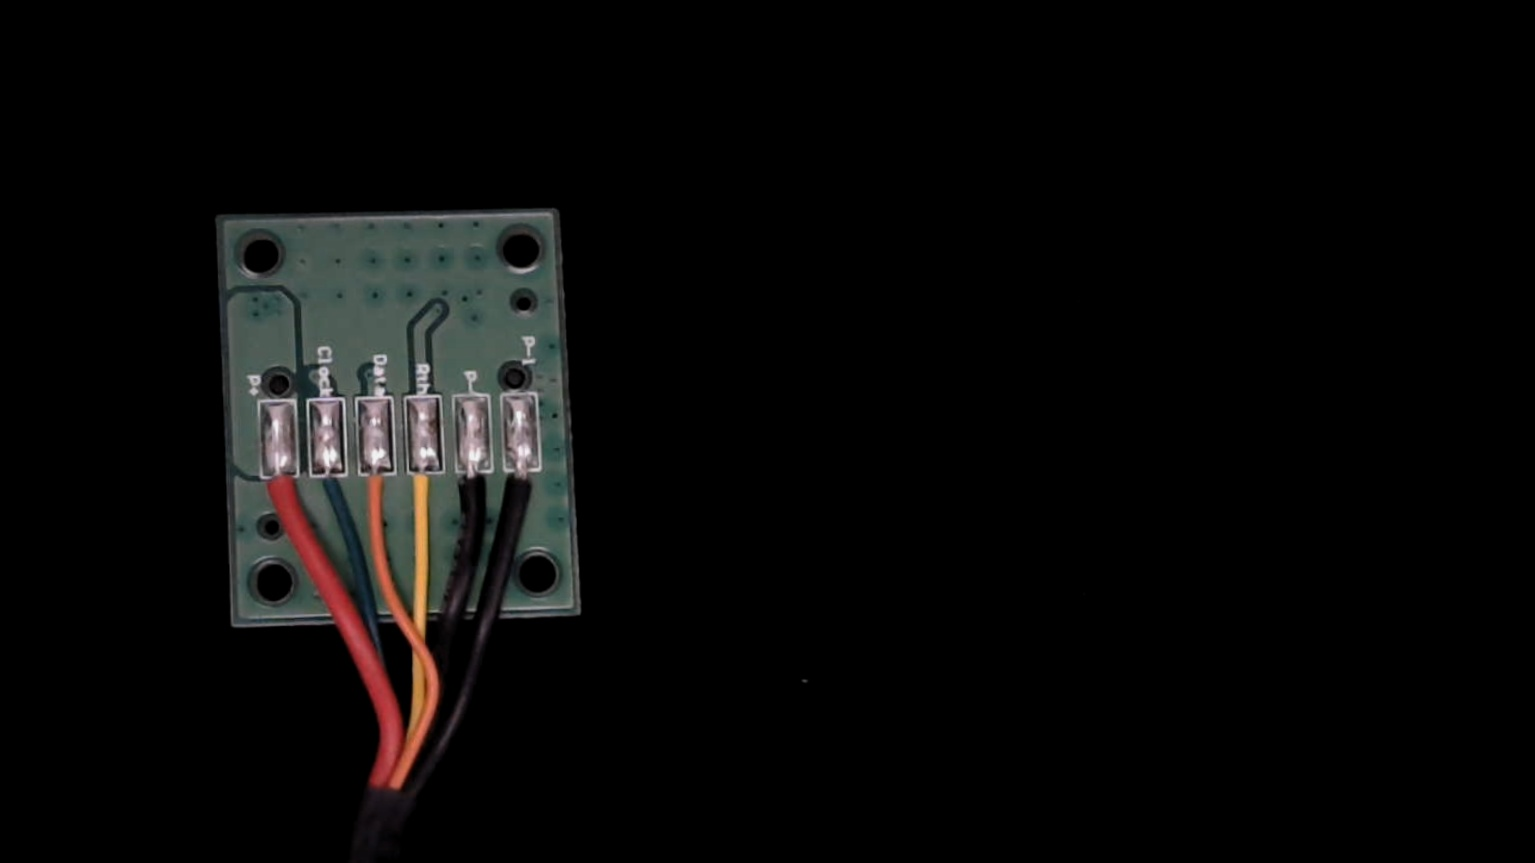Black: (454, 450, 494, 532)
Black1: (504, 449, 543, 533)
Green: (310, 453, 348, 534)
Orange: (358, 454, 397, 527)
Red: (260, 453, 297, 535)
Yellow: (405, 451, 444, 537)
